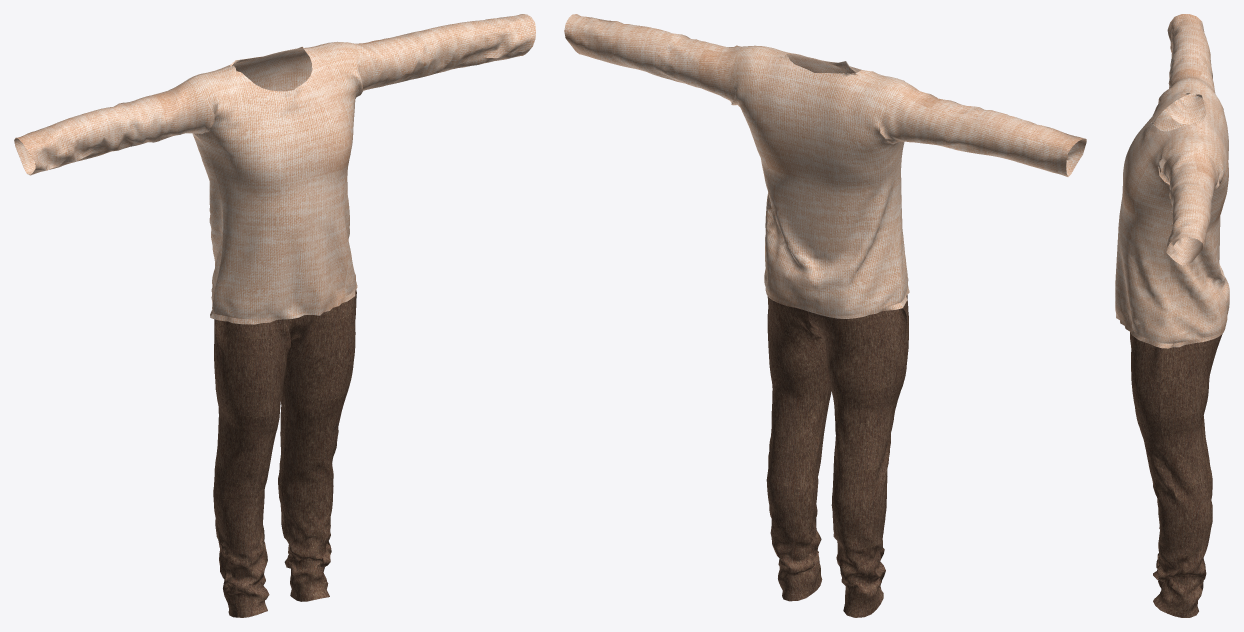
The picture shows the model from 3 angles, left to right: view 1: azimuth 30°, elevation 25°; view 2: azimuth 150°, elevation 25°; view 3: azimuth 270°, elevation 25°; orthographic projection. The views are drawn at different scales.
Visible parts, largest first — view 1: QQQWWW; view 2: QQQWWW; view 3: QQQWWW.
Boxes of the visible parts, x1,y1,x2,y2 form: QQQWWW: (14,14,535,617); QQQWWW: (564,14,1086,617); QQQWWW: (1115,14,1229,617).
Bounding box in the file's own units: 1453 × 1486 × 314.
